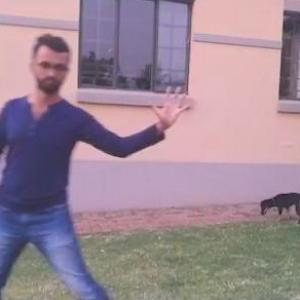follow_hand: (150, 79, 196, 129)
